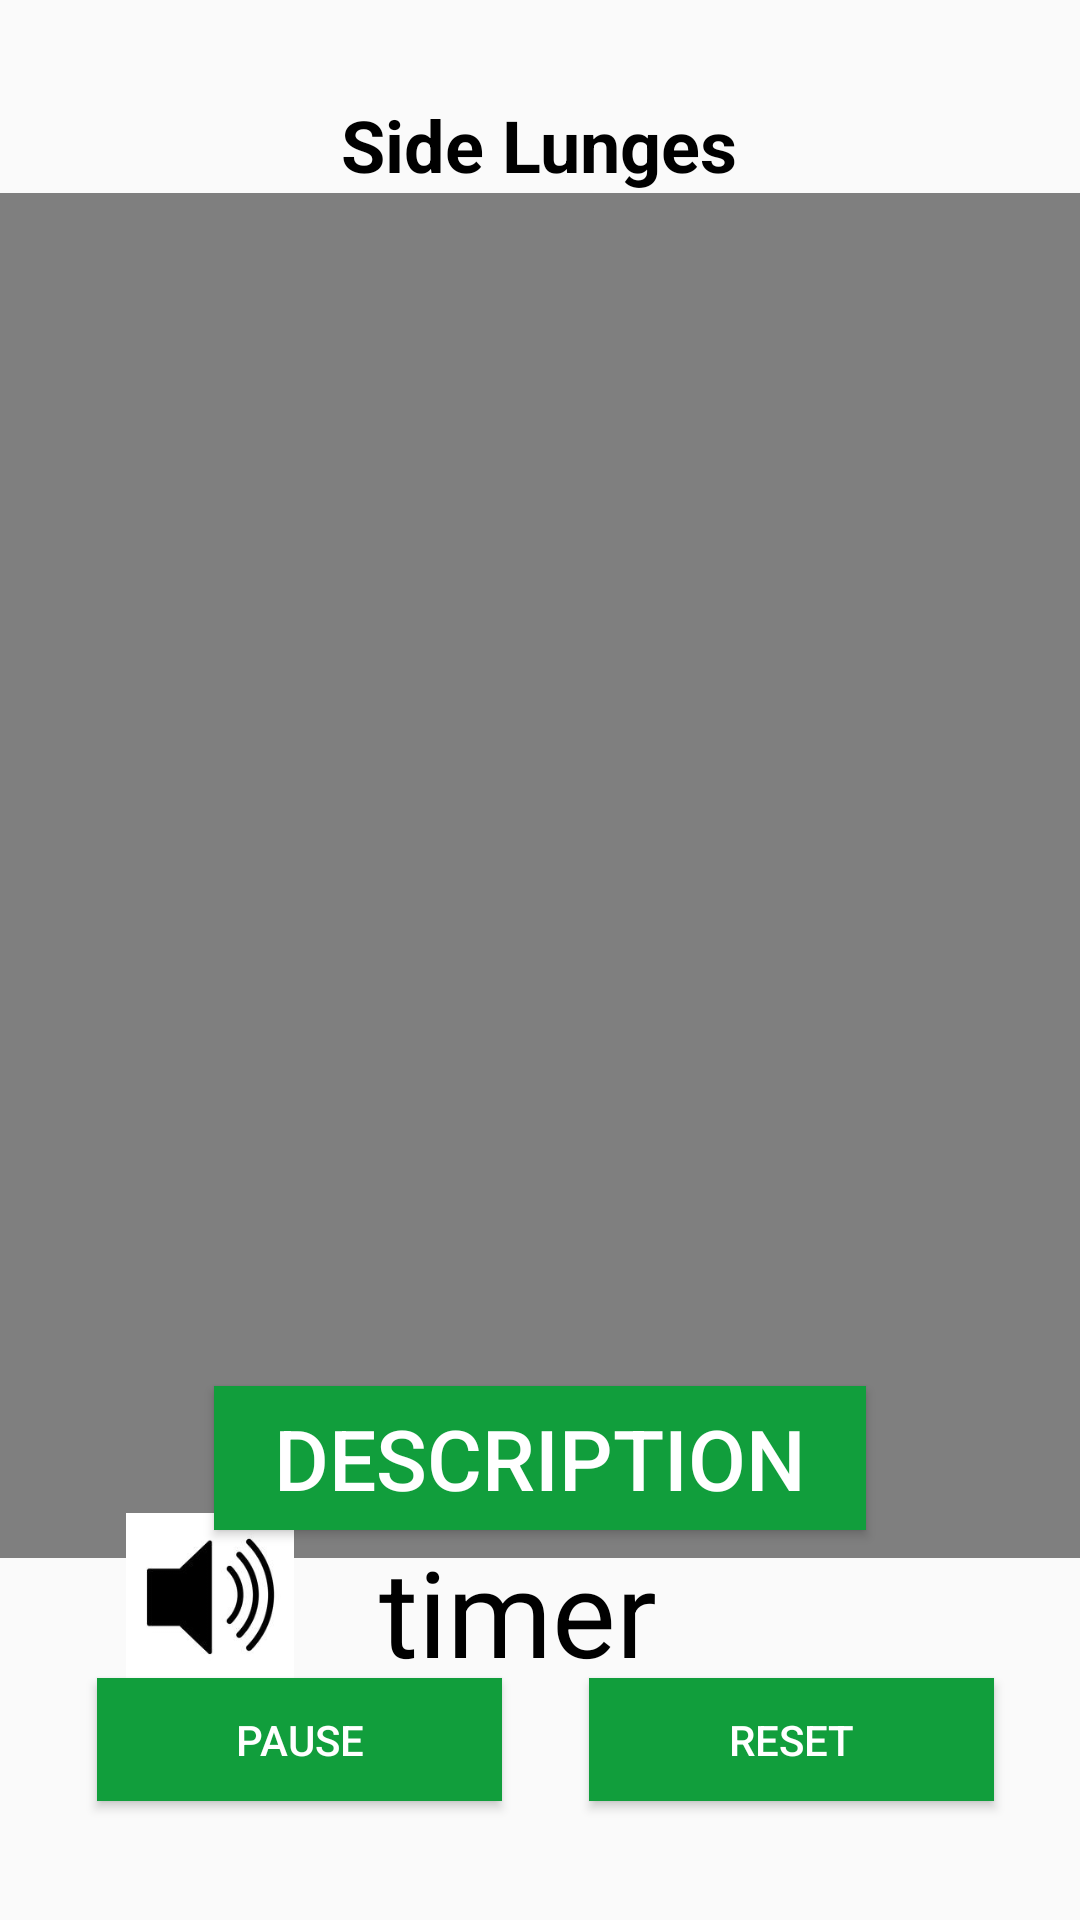

Icons on this 1080px×1920px Android screen, each with the point to tap as point (x, y):
speakericon: point (210, 1597)
